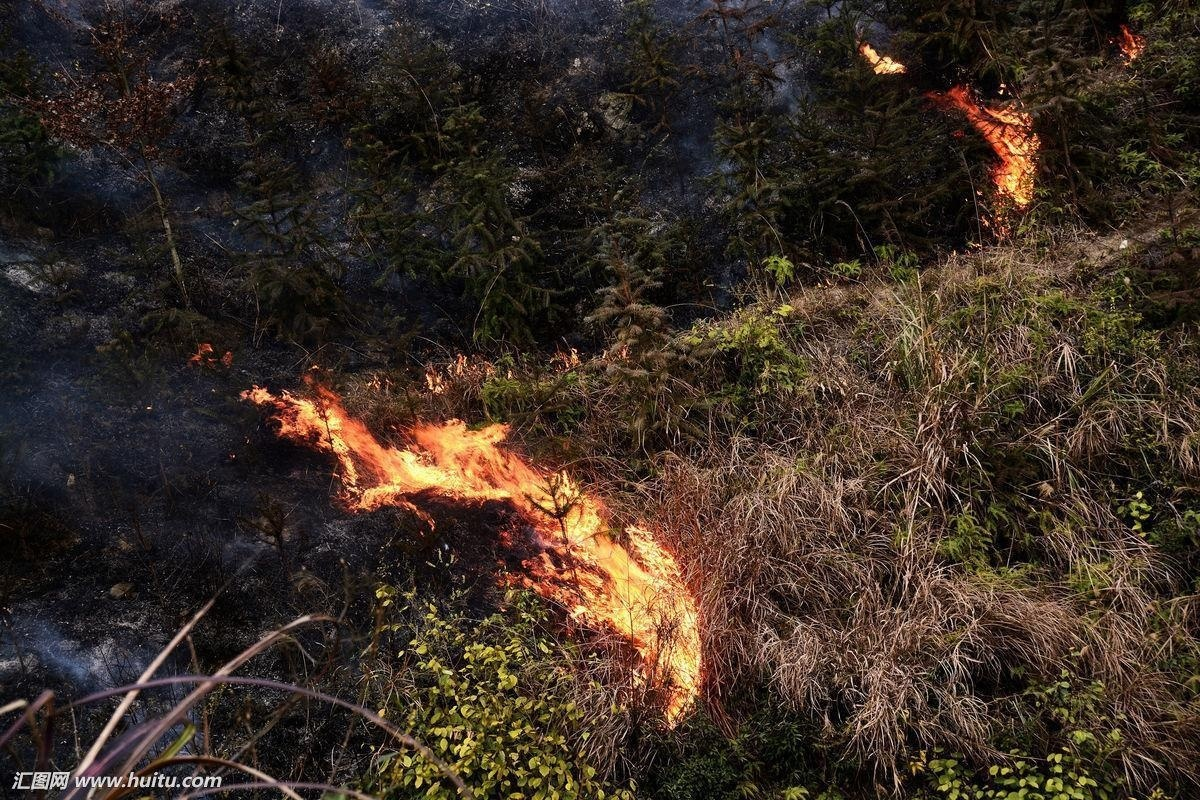fire: (254, 340, 725, 727), (937, 79, 1040, 207), (858, 36, 907, 75), (1116, 22, 1146, 59)
